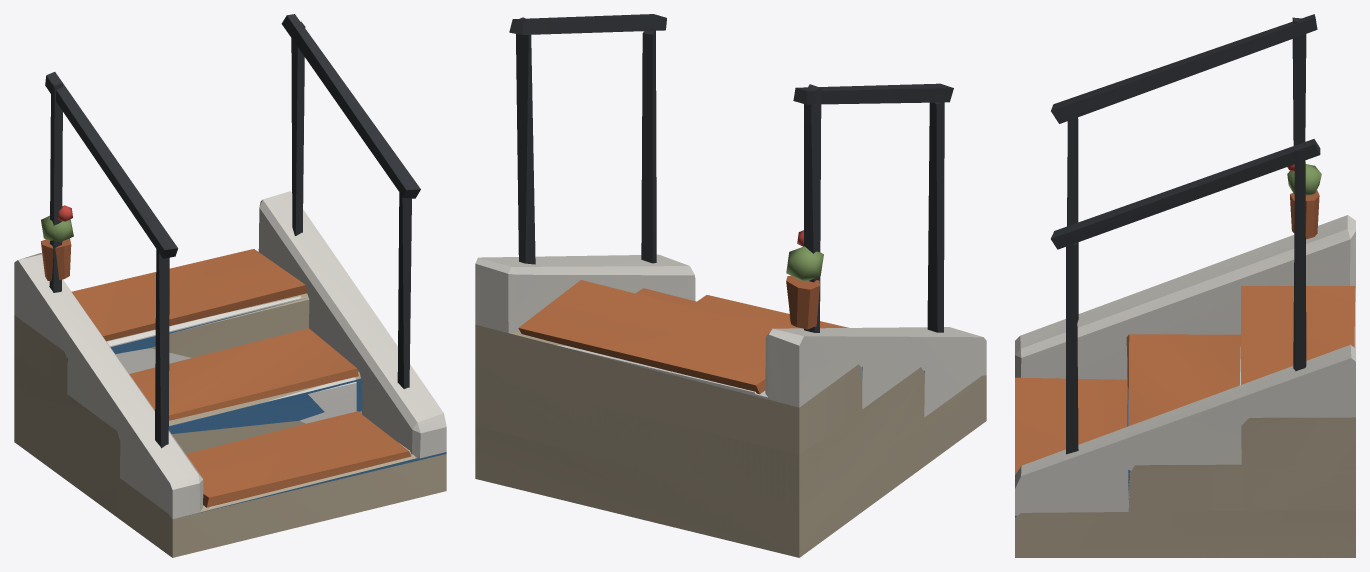
The model's file is stair.glb.
3 renders of one model, left to right at view 1: azimuth 30°, elevation 25°; view 2: azimuth 150°, elevation 25°; view 3: azimuth 270°, elevation 25°, orthographic. The views are drawn at different scales.
Visible parts, largest first — view 1: stair.v0.mesh, stair.v1.mesh, stair.v2.mesh; view 2: stair.v1.mesh, stair.v0.mesh; view 3: stair.v0.mesh, stair.v1.mesh.
Part boxes in pixels (left/top/right/bottom): stair.v0.mesh: left=14, top=191, right=446, bottom=519; stair.v1.mesh: left=14, top=14, right=446, bottom=557; stair.v2.mesh: left=15, top=298, right=446, bottom=516; stair.v1.mesh: left=475, top=14, right=986, bottom=557; stair.v0.mesh: left=475, top=230, right=986, bottom=415; stair.v0.mesh: left=1015, top=164, right=1355, bottom=515; stair.v1.mesh: left=1015, top=14, right=1355, bottom=557.
Size of the model in its own units: 1 by 1.32 by 1.
